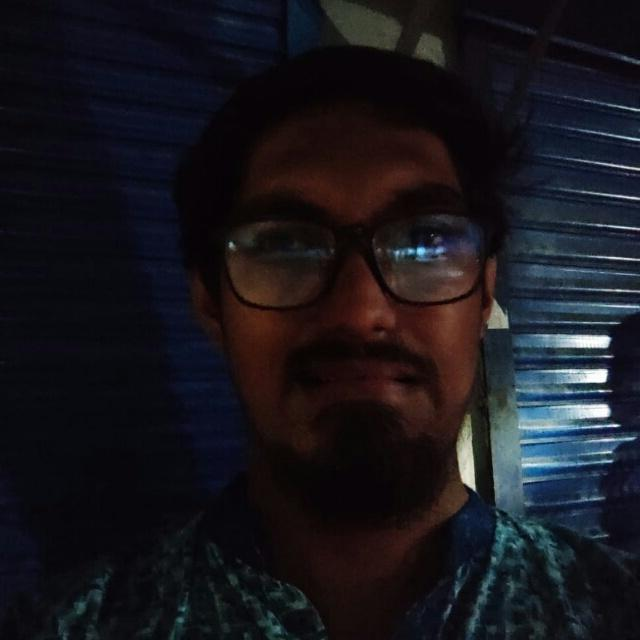Disgust: (89, 102, 557, 523)
